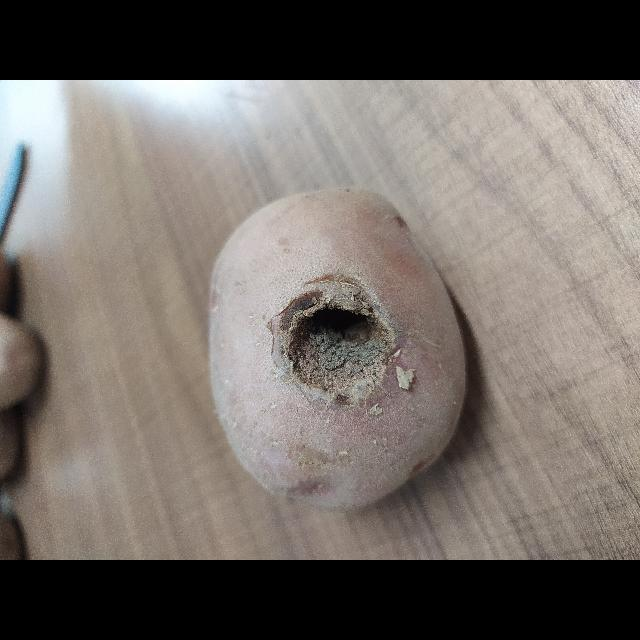Damaged potato: (40, 282, 382, 562)
